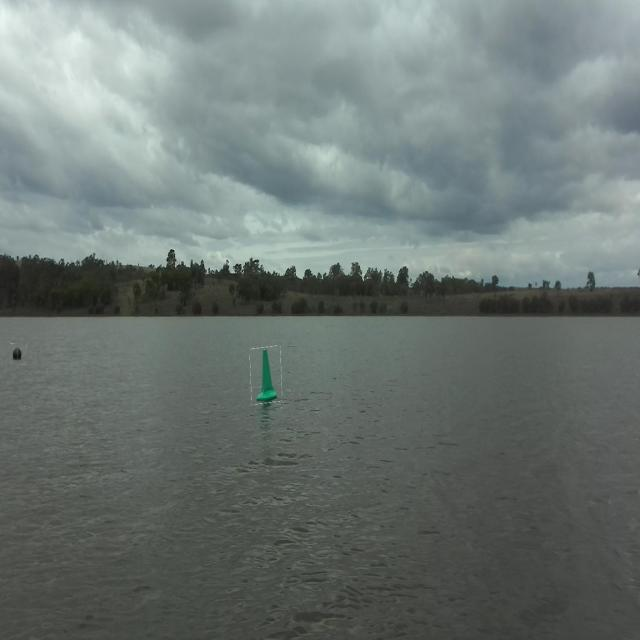Black_Buoy: (13, 339, 28, 378)
Green_Buoy: (252, 339, 278, 417)
